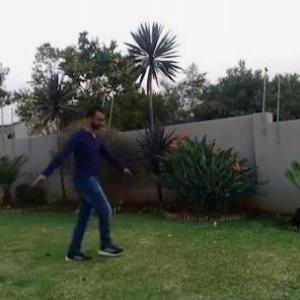land: (32, 97, 141, 275)
